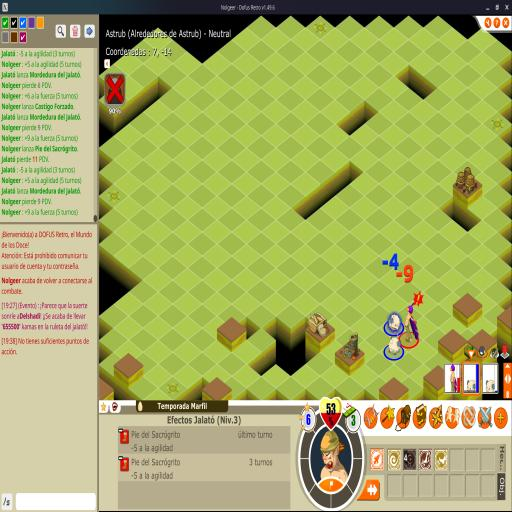Enemigos: (388, 314, 402, 332), (388, 337, 402, 355)
Personaje: (403, 305, 419, 343)
